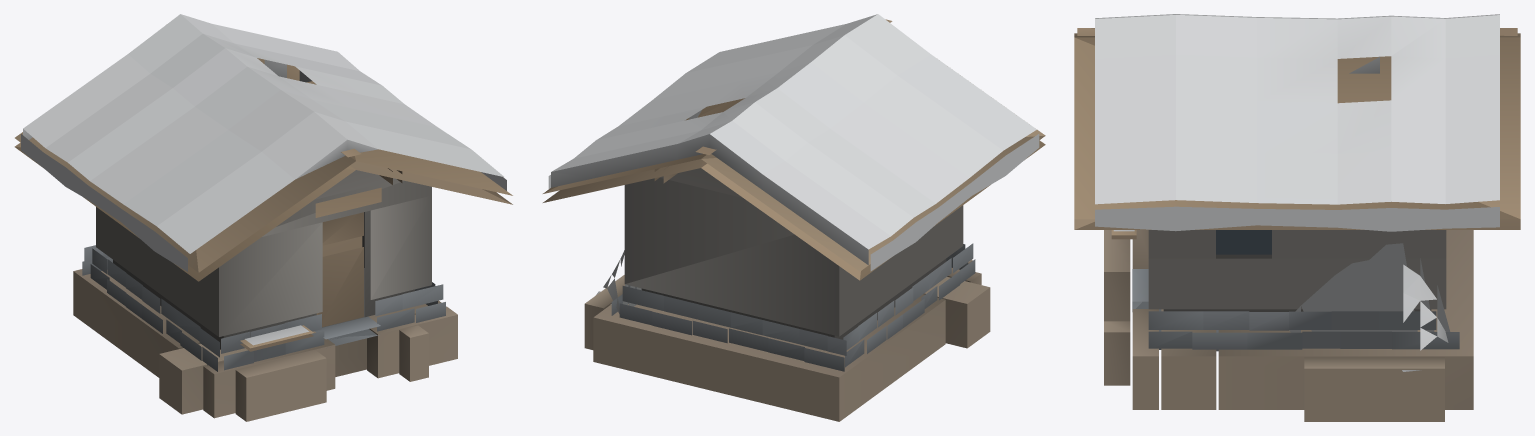
Rendered from refuge.lod.glb.
3 views of the same model, side by side, from view 1: azimuth 30°, elevation 25°; view 2: azimuth 150°, elevation 25°; view 3: azimuth 270°, elevation 25° (orthographic). The views are drawn at different scales.
Parts seen in each view (by area): view 1: refuge; view 2: refuge; view 3: refuge.
Boxes of the visible parts, x1,y1,x2,y2 form: refuge: (14,14,512,421); refuge: (543,14,1045,421); refuge: (1074,14,1520,421).
Bounding box in the file's own units: 7.8 × 6.18 × 7.8.
